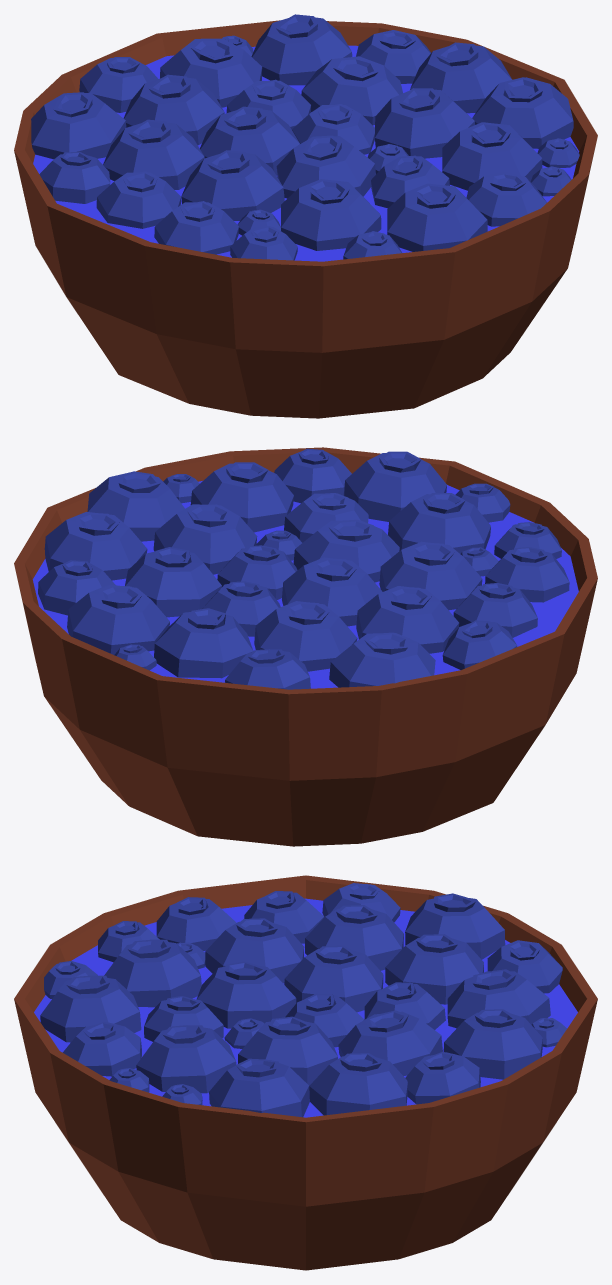
File: Blueberries.fbx
The picture shows the model from 3 angles, top to bottom: view 1: azimuth 30°, elevation 25°; view 2: azimuth 150°, elevation 25°; view 3: azimuth 270°, elevation 25°; orthographic projection. The views are drawn at different scales.
Visible parts, largest first — view 1: Blueberry, BAkje, blueberry plane; view 2: Blueberry, BAkje, blueberry plane; view 3: Blueberry, BAkje, blueberry plane.
Boxes of the visible parts, x1,y1,x2,y2 form: Blueberry: (31,14,579,260); BAkje: (14,20,597,418); blueberry plane: (33,45,579,261); Blueberry: (38,448,569,689); BAkje: (14,447,597,846); blueberry plane: (32,481,578,688); Blueberry: (40,883,567,1117); BAkje: (14,875,597,1270); blueberry plane: (34,898,577,1117).
Bounding box in the file's own units: 11.52 × 4.57 × 11.52.
